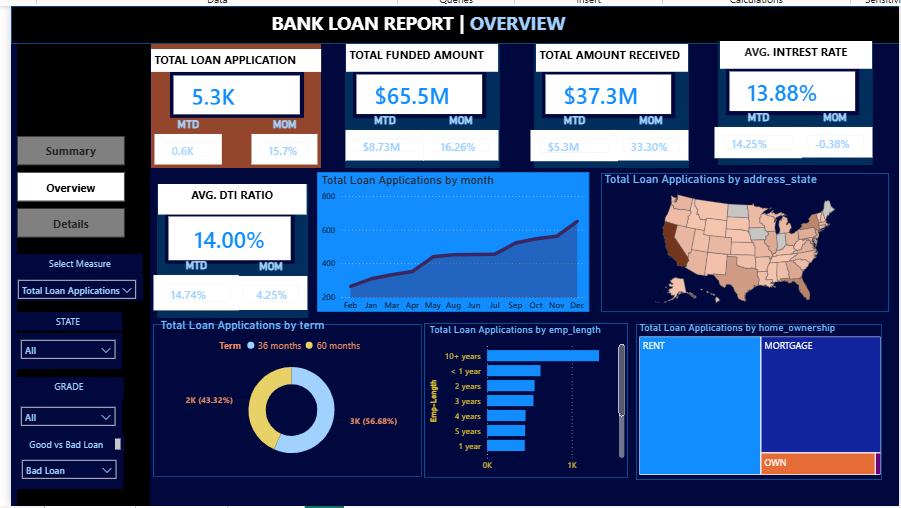

What the dashboard file says about the page in this screenshot:
{"tool":"powerbi","page":{"name":"Overview","canvas":[1280,720],"ordinal":1},"visuals":[{"type":"shape","box":[8.6,54.7,191.5,665.3],"z":0},{"type":"actionButton","box":[0,0,100,40],"z":1000},{"type":"shape","box":[1018.2,50.4,223.2,178.6],"z":1000,"group":"g4"},{"type":"shape","box":[201.6,54.7,244.8,178.6],"z":1000,"group":"g1"},{"type":"shape","box":[480.4,54.7,223.2,178.6],"z":1000,"group":"g2"},{"type":"shape","box":[753.2,54.7,223.2,178.6],"z":1000,"group":"g3"},{"type":"shape","box":[210.2,256.3,217.8,193],"z":1000,"group":"g5"},{"type":"slicer","fields":{"Values":["financial_loan.address_state"]},"box":[4.3,470.8,155.5,51.8],"z":1000,"group":"g7"},{"type":"shape","box":[0,0,1280.2,54.7],"z":2000},{"type":"textbox","box":[370.1,0,447.8,51.8],"z":3000},{"type":"group","id":"g1","title":"Group 1","box":[201.6,54.7,244.8,178.6],"z":4000},{"type":"group","id":"g2","title":"Group 1","box":[476.6,54.7,230.4,178.6],"z":5000},{"type":"cardVisual","fields":{"Data":["financial_loan.Avg. intrest rate"]},"box":[1030,89.7,191.5,67.7],"z":5000,"group":"g4"},{"type":"cardVisual","fields":{"Data":["financial_loan.Total Funded Amount"]},"box":[492.2,94,191.5,67.7],"z":5000,"group":"g2"},{"type":"cardVisual","fields":{"Data":["financial_loan.Total Amount Recieved"]},"box":[765,94,191.5,67.7],"z":5000,"group":"g3"},{"type":"cardVisual","fields":{"Data":["financial_loan.Total Loan Applications"]},"box":[228.4,95,192.7,66.2],"z":5000,"group":"g1"},{"type":"cardVisual","fields":{"Data":["financial_loan.Avg. DTI ratio"]},"box":[221.7,298.8,186.9,73.1],"z":5000,"group":"g5"},{"type":"textbox","box":[1020.3,50.8,218.9,40.3],"z":6000,"group":"g4"},{"type":"group","id":"g3","title":"Group 1","box":[743,54.7,237.6,178.6],"z":6000},{"type":"textbox","box":[482.5,55.1,218.9,40.3],"z":6000,"group":"g2"},{"type":"textbox","box":[755.3,55.1,218.9,40.3],"z":6000,"group":"g3"},{"type":"textbox","box":[201.6,61.9,244.8,33.1],"z":6000,"group":"g1"},{"type":"textbox","box":[212.2,256.7,213.6,43.6],"z":6000,"group":"g5"},{"type":"group","id":"g4","title":"Group 1","box":[1008,50.4,237.6,178.6],"z":7000},{"type":"cardVisual","title":"MTD","fields":{"Data":["financial_loan.MTD Intrest rate"]},"box":[1008,150.7,136.8,73.4],"z":7000,"group":"g4"},{"type":"cardVisual","title":"MTD","fields":{"Data":["financial_loan.MTD Amount Recieved"]},"box":[743,155,136.8,73.4],"z":7000,"group":"g3"},{"type":"cardVisual","title":"MTD","fields":{"Data":["financial_loan.MTD Funded Amount"]},"box":[476.6,155.9,123.8,72],"z":7000,"group":"g2"},{"type":"cardVisual","title":"MTD","fields":{"Data":["financial_loan.MTD Total Loan Applications"]},"box":[201.6,161.3,107.4,72],"z":7000,"group":"g1"},{"type":"cardVisual","title":"MTD","fields":{"Data":["financial_loan.MTD DTI ratio"]},"box":[200.2,364.7,133.5,79.4],"z":7000,"group":"g5"},{"type":"cardVisual","title":"MOM","fields":{"Data":["financial_loan.MOM Intrest Rate"]},"box":[1126.9,151.6,118.1,72],"z":8000,"group":"g4"},{"type":"cardVisual","title":"MOM","fields":{"Data":["financial_loan.MOM funded Amount"]},"box":[589,155.9,118.1,72],"z":8000,"group":"g2"},{"type":"cardVisual","title":"MOM","fields":{"Data":["financial_loan.MOM Amount Recieved"]},"box":[861.9,155.9,118.1,72],"z":8000,"group":"g3"},{"type":"cardVisual","title":"MOM","fields":{"Data":["financial_loan.MOM Loan Applications"]},"box":[340.6,161.3,105.8,72],"z":8000,"group":"g1"},{"type":"group","id":"g5","title":"Group 1","box":[200.2,256.3,231.8,193],"z":8000},{"type":"cardVisual","title":"MOM","fields":{"Data":["financial_loan.MOM DTI ratio"]},"box":[316.2,365.7,115.2,77.8],"z":8000,"group":"g5"},{"type":"shape","box":[440.6,239,392,201.6],"z":9000},{"type":"textbox","box":[8.6,357.1,181.4,27.4],"z":10000},{"type":"group","id":"g6","title":"Group 3","box":[4.3,440.6,158.4,254.9],"z":11000},{"type":"areaChart","fields":{"Y":["financial_loan.Total Loan Applications"],"Category":["date_table.month"]},"box":[442.1,240.5,390.2,208.8],"z":12000},{"type":"slicer","fields":{"Values":["Select Measure.Select Measure"]},"box":[0,384.5,190.1,40.3],"z":13000},{"type":"shape","box":[849.6,240.5,414.7,200.2],"z":14000},{"type":"shapeMap","fields":{"Value":["financial_loan.Total Loan Applications"],"Category":["financial_loan.address_state"]},"box":[849.6,239,414.7,201.6],"z":15000},{"type":"shape","box":[204.5,457.9,387.4,220.3],"z":16000},{"type":"donutChart","fields":{"Y":["financial_loan.Total Loan Applications"],"Category":["financial_loan.term"]},"box":[210.2,449.3,387.4,217.4],"z":17000},{"type":"shape","box":[594.7,456.5,293.8,223.2],"z":17001},{"type":"barChart","fields":{"Category":["financial_loan.emp_length"],"Y":["financial_loan.Total Loan Applications"]},"box":[597.6,457.9,290.9,221.8],"z":17002},{"type":"shape","box":[900,457.9,354.2,224.6],"z":17003},{"type":"treemap","fields":{"Group":["financial_loan.home_ownership"],"Values":["financial_loan.Total Loan Applications"]},"box":[900,455,357.1,224.6],"z":17004},{"type":"pageNavigator","box":[8.6,187.2,155.5,148.3],"z":17005},{"type":"textbox","box":[4.3,440.6,155.5,27.4],"z":20000,"group":"g7"},{"type":"slicer","fields":{"Values":["financial_loan.grade"]},"box":[4.3,567.3,155.5,51.8],"z":21000,"group":"g7"},{"type":"textbox","box":[4.3,534.2,158.4,33.1],"z":22000,"group":"g7"},{"type":"textbox","box":[5.7,617.7,157,25.9],"z":23000,"group":"g6"},{"type":"slicer","fields":{"Values":["financial_loan.Good vs Bad Loan"]},"box":[5.7,643.6,155.5,51.8],"z":24000,"group":"g7"},{"type":"group","id":"g7","title":"Group 2","box":[4.3,440.6,158.4,254.9],"z":24001,"group":"g6"}]}

Visuals, with their boxes on the page's 1280x720 design canvas (x1, y1, x2, y2). These are canvas units, not pixel positions in the 901x508 screenshot, which may show the page scaled, cropped or inside an application window:
shape: (left=9, top=55, right=200, bottom=720)
actionButton: (left=0, top=0, right=100, bottom=40)
shape: (left=1018, top=50, right=1241, bottom=229)
shape: (left=202, top=55, right=446, bottom=233)
shape: (left=480, top=55, right=704, bottom=233)
shape: (left=753, top=55, right=976, bottom=233)
shape: (left=210, top=256, right=428, bottom=449)
slicer - financial_loan.address_state: (left=4, top=471, right=160, bottom=523)
shape: (left=0, top=0, right=1280, bottom=55)
textbox: (left=370, top=0, right=818, bottom=52)
"Group 1" group: (left=202, top=55, right=446, bottom=233)
"Group 1" group: (left=477, top=55, right=707, bottom=233)
cardVisual - financial_loan.Avg. intrest rate: (left=1030, top=90, right=1222, bottom=157)
cardVisual - financial_loan.Total Funded Amount: (left=492, top=94, right=684, bottom=162)
cardVisual - financial_loan.Total Amount Recieved: (left=765, top=94, right=956, bottom=162)
cardVisual - financial_loan.Total Loan Applications: (left=228, top=95, right=421, bottom=161)
cardVisual - financial_loan.Avg. DTI ratio: (left=222, top=299, right=409, bottom=372)
textbox: (left=1020, top=51, right=1239, bottom=91)
"Group 1" group: (left=743, top=55, right=981, bottom=233)
textbox: (left=482, top=55, right=701, bottom=95)
textbox: (left=755, top=55, right=974, bottom=95)
textbox: (left=202, top=62, right=446, bottom=95)
textbox: (left=212, top=257, right=426, bottom=300)
"Group 1" group: (left=1008, top=50, right=1246, bottom=229)
"MTD" cardVisual: (left=1008, top=151, right=1145, bottom=224)
"MTD" cardVisual: (left=743, top=155, right=880, bottom=228)
"MTD" cardVisual: (left=477, top=156, right=600, bottom=228)
"MTD" cardVisual: (left=202, top=161, right=309, bottom=233)
"MTD" cardVisual: (left=200, top=365, right=334, bottom=444)
"MOM" cardVisual: (left=1127, top=152, right=1245, bottom=224)
"MOM" cardVisual: (left=589, top=156, right=707, bottom=228)
"MOM" cardVisual: (left=862, top=156, right=980, bottom=228)
"MOM" cardVisual: (left=341, top=161, right=446, bottom=233)
"Group 1" group: (left=200, top=256, right=432, bottom=449)
"MOM" cardVisual: (left=316, top=366, right=431, bottom=444)
shape: (left=441, top=239, right=833, bottom=441)
textbox: (left=9, top=357, right=190, bottom=384)
"Group 3" group: (left=4, top=441, right=163, bottom=696)
areaChart - financial_loan.Total Loan Applications x date_table.month: (left=442, top=240, right=832, bottom=449)
slicer - Select Measure.Select Measure: (left=0, top=384, right=190, bottom=425)
shape: (left=850, top=240, right=1264, bottom=441)
shapeMap - financial_loan.Total Loan Applications x financial_loan.address_state: (left=850, top=239, right=1264, bottom=441)
shape: (left=204, top=458, right=592, bottom=678)
donutChart - financial_loan.Total Loan Applications x financial_loan.term: (left=210, top=449, right=598, bottom=667)
shape: (left=595, top=456, right=888, bottom=680)
barChart - financial_loan.emp_length x financial_loan.Total Loan Applications: (left=598, top=458, right=888, bottom=680)
shape: (left=900, top=458, right=1254, bottom=682)
treemap - financial_loan.home_ownership x financial_loan.Total Loan Applications: (left=900, top=455, right=1257, bottom=680)
pageNavigator: (left=9, top=187, right=164, bottom=336)
textbox: (left=4, top=441, right=160, bottom=468)
slicer - financial_loan.grade: (left=4, top=567, right=160, bottom=619)
textbox: (left=4, top=534, right=163, bottom=567)
textbox: (left=6, top=618, right=163, bottom=644)
slicer - financial_loan.Good vs Bad Loan: (left=6, top=644, right=161, bottom=695)
"Group 2" group: (left=4, top=441, right=163, bottom=696)
